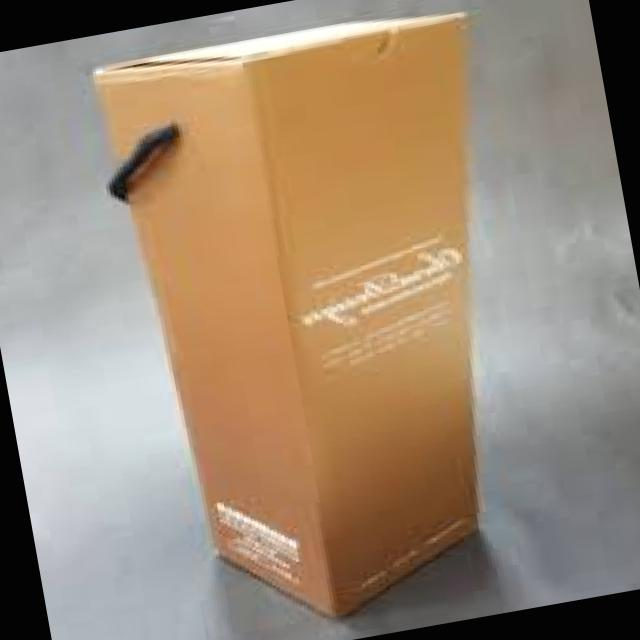cardboard: (93, 15, 477, 615)
